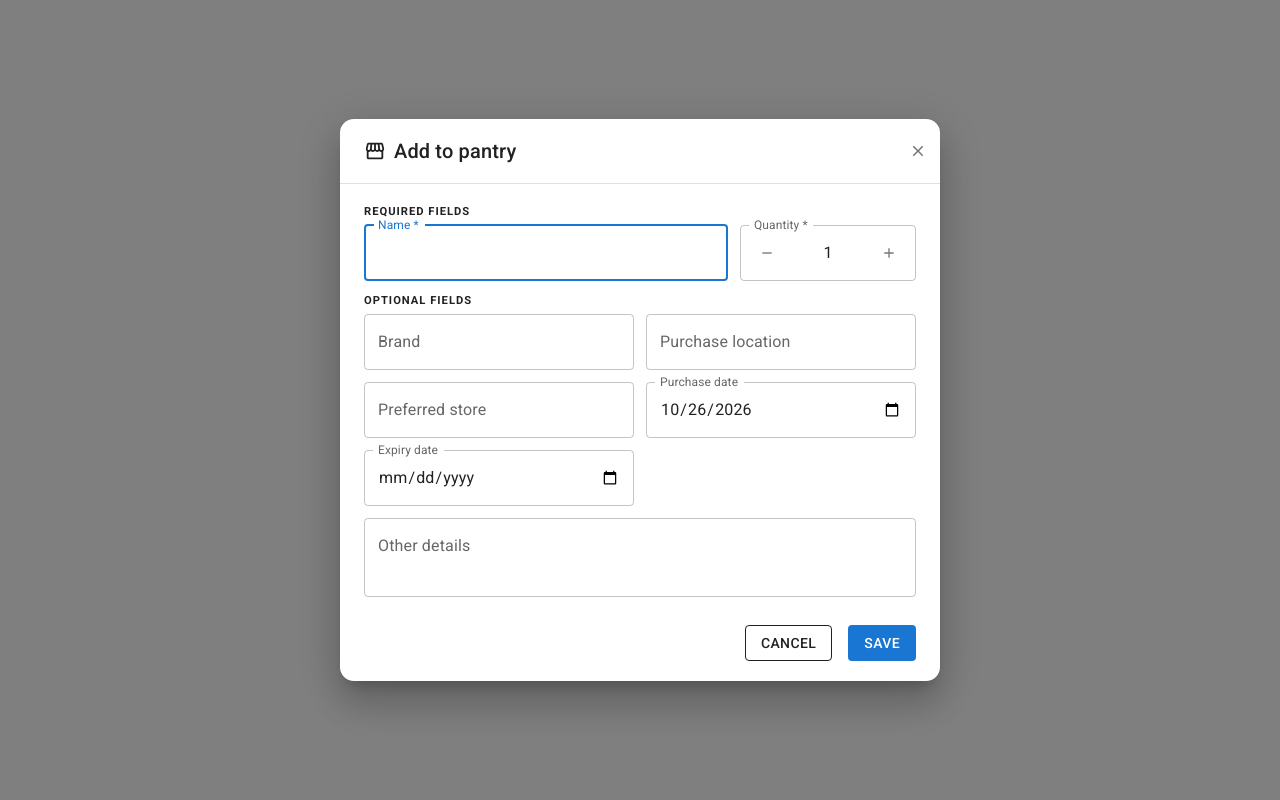
AddProductModal › offers favorite store names as suggestions
This screenshot has width=1280, height=800.
In the dropdown labelled "Preferred store": (499, 410) [373,390,625,428], type "Co"
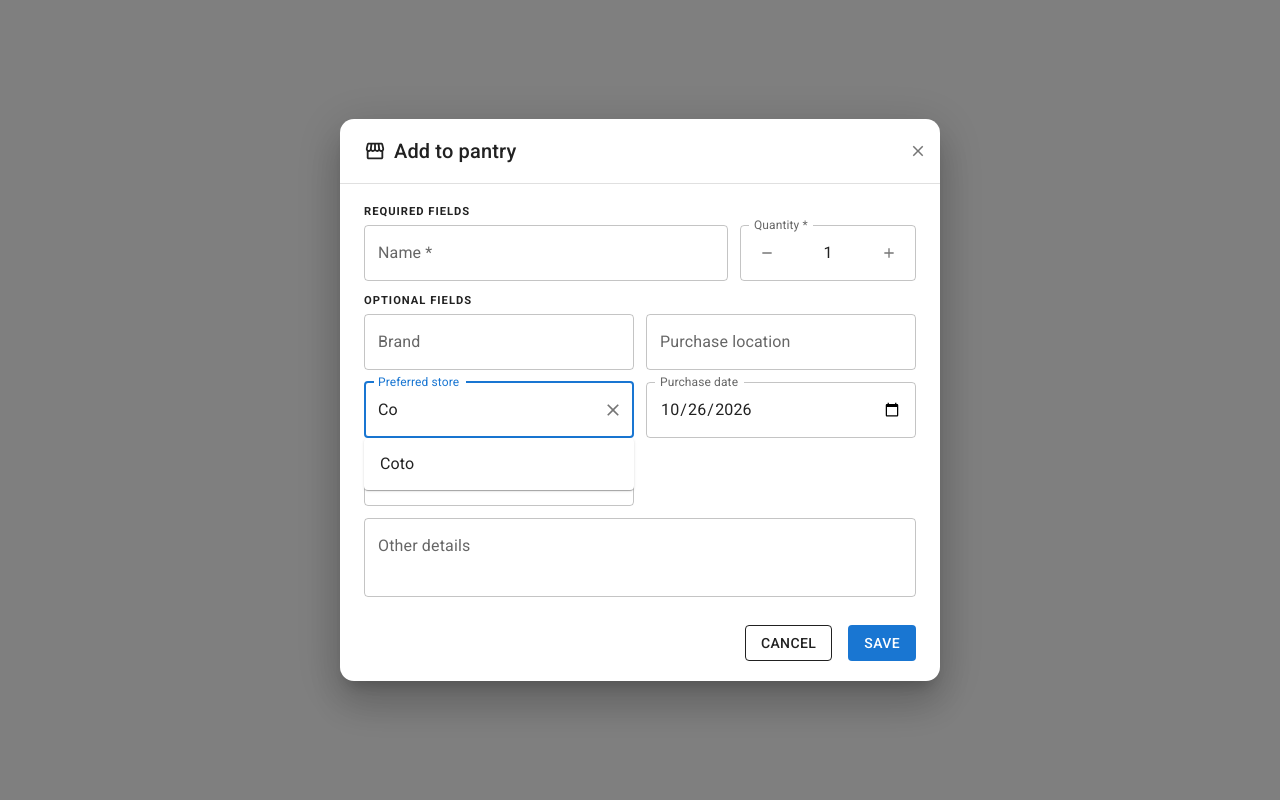
Expected: the option "Coto" is shown, [380,454,414,473]
